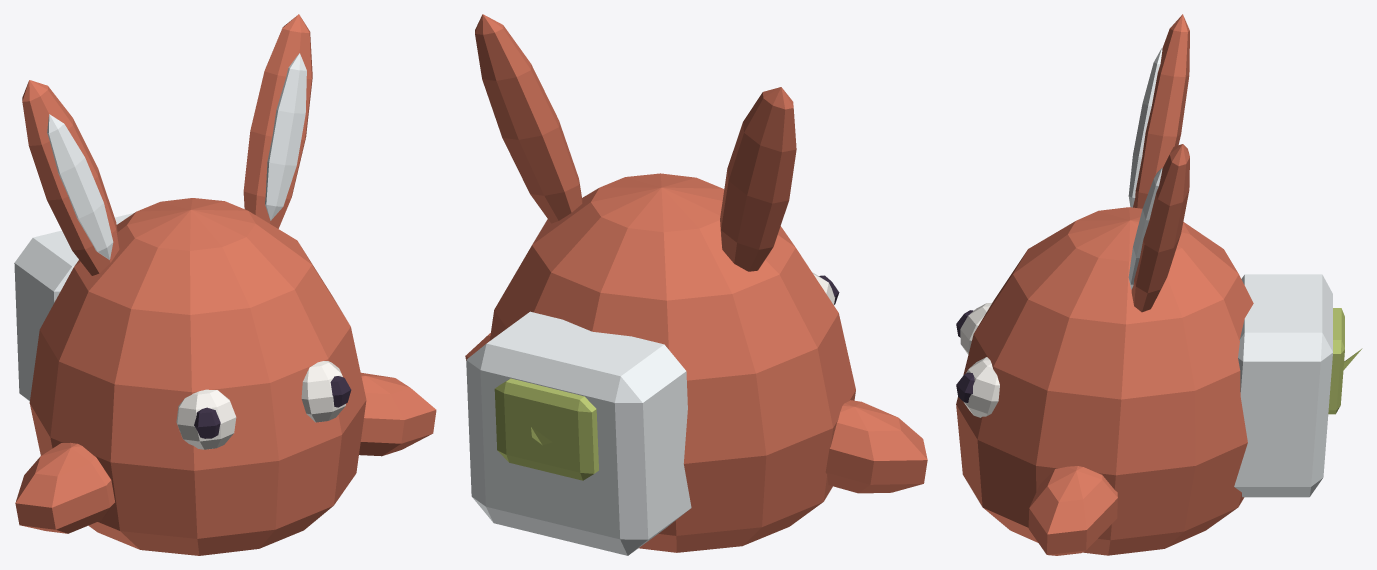
Rendered from blob-park-2.glb.
3 views of the same model, side by side, from view 1: azimuth 30°, elevation 25°; view 2: azimuth 150°, elevation 25°; view 3: azimuth 270°, elevation 25° (orthographic). The views are drawn at different scales.
Parts seen in each view (by area): view 1: blob-park-2; view 2: blob-park-2; view 3: blob-park-2.
Boxes of the visible parts, x1=… form: blob-park-2: x1=14, y1=14, x2=436, y2=555; blob-park-2: x1=465, y1=14, x2=927, y2=555; blob-park-2: x1=956, y1=14, x2=1362, y2=555.
Bounding box in the file's own units: 0.8968 × 0.9 × 0.7781.
